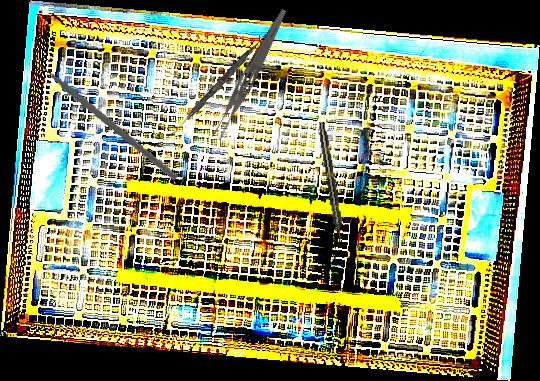Chopper: (18, 43, 193, 181)
Dressing Forceps: (209, 5, 290, 143)
Handpiece: (316, 120, 346, 245)
Spatula Surgical: (167, 30, 268, 142)
